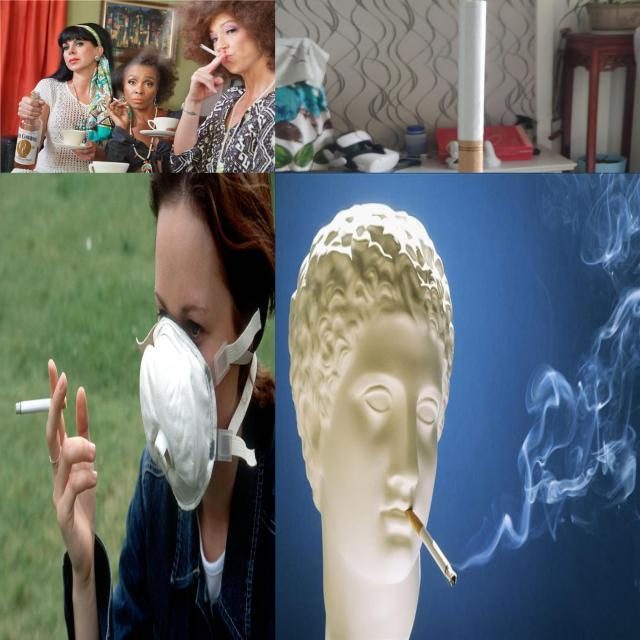smoking: (402, 496, 458, 602), (456, 0, 488, 173), (15, 393, 67, 415), (199, 44, 228, 60), (112, 96, 129, 108)
